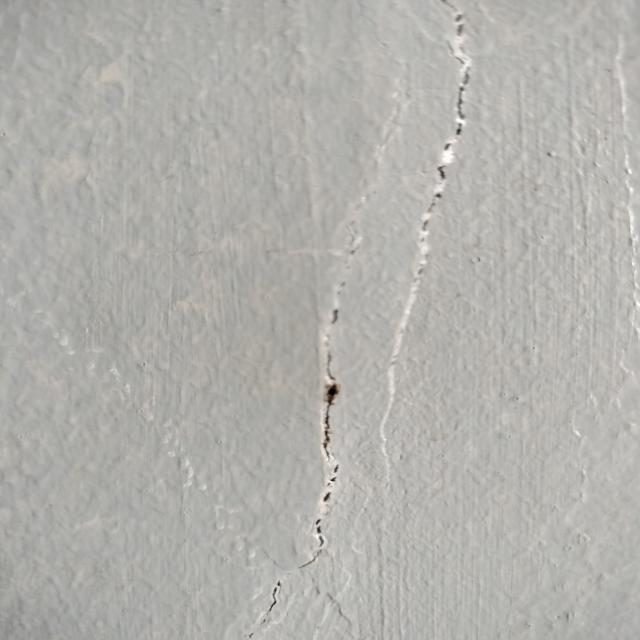Crack: (386, 4, 480, 484), (288, 272, 351, 583)
